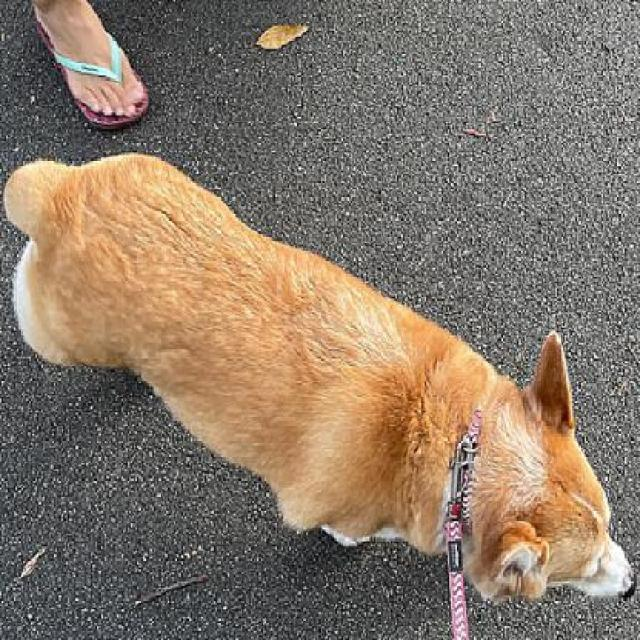Dog: (1, 151, 638, 614)
